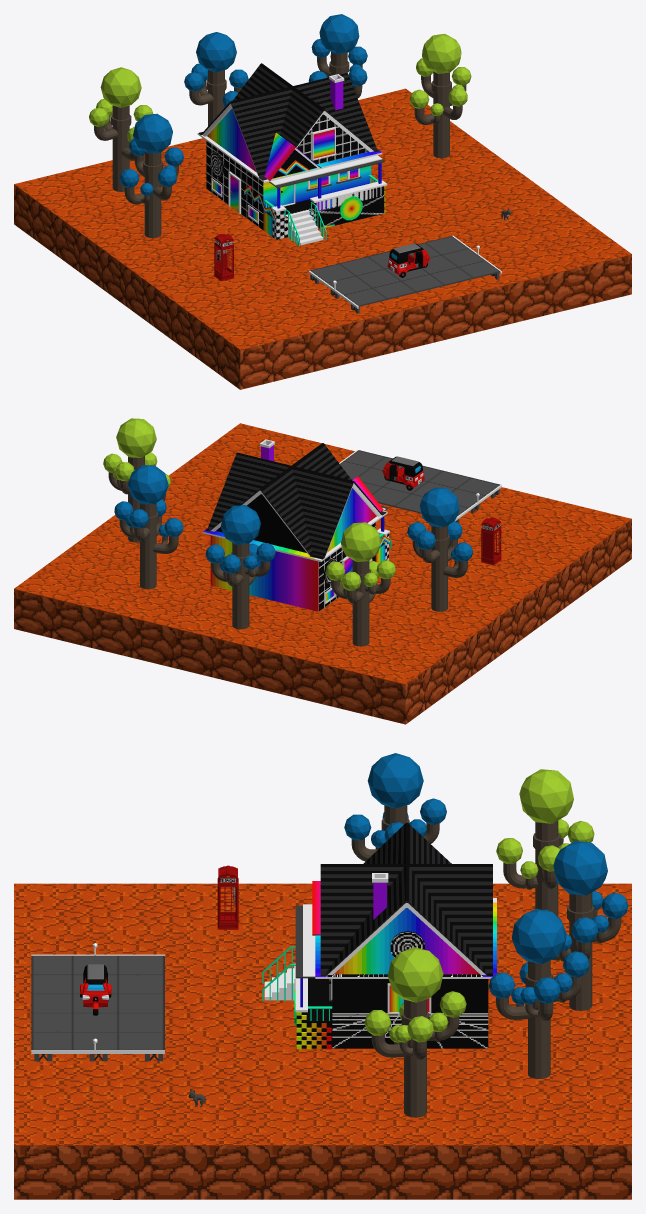
3 views of the same model, one above another, from view 1: azimuth 30°, elevation 25°; view 2: azimuth 150°, elevation 25°; view 3: azimuth 270°, elevation 25° (orthographic). The views are drawn at different scales.
Parts seen in each view (by area): view 1: Cube.001, Cube.1320, VEHICLES_TUC_TUC, OBJRANDOM_PHONEBOOTH; view 2: Cube.001, Cube.1320, VEHICLES_TUC_TUC, OBJRANDOM_PHONEBOOTH; view 3: Cube.001, Cube.1320, OBJRANDOM_PHONEBOOTH, VEHICLES_TUC_TUC.
Boxes of the visible parts, x1,y1,x2,y2 form: Cube.001: (14, 14, 631, 389); Cube.1320: (197, 63, 387, 246); VEHICLES_TUC_TUC: (387, 243, 429, 277); OBJRANDOM_PHONEBOOTH: (213, 234, 233, 281); Cube.001: (14, 418, 631, 724); Cube.1320: (202, 439, 391, 611); VEHICLES_TUC_TUC: (382, 456, 424, 490); OBJRANDOM_PHONEBOOTH: (481, 517, 501, 565); Cube.001: (14, 753, 631, 1199); Cube.1320: (262, 822, 496, 1049); OBJRANDOM_PHONEBOOTH: (217, 865, 238, 929); VEHICLES_TUC_TUC: (80, 964, 111, 1015).
Size of the model in its own units: 4000 by 1637 by 4000.
Materials: 39 (6 with a texture image).
